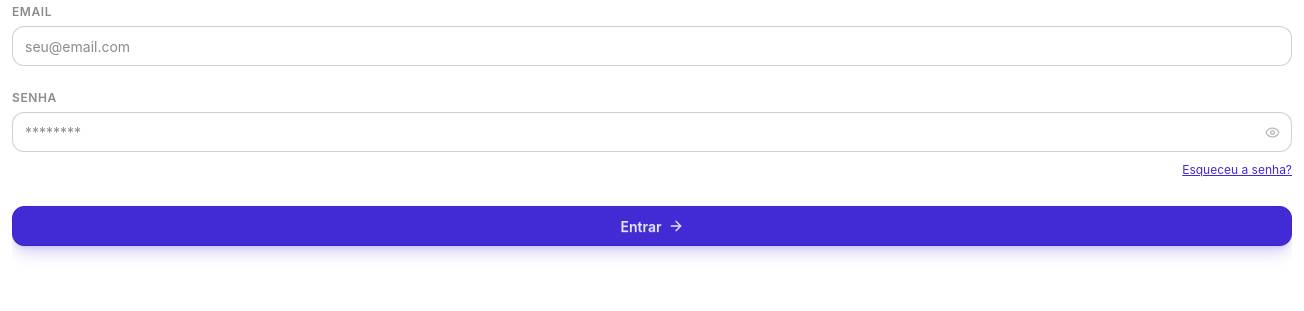
Test case: Login › Mock de login › deve mostrar erro quando login retorna falha
Type "erro@email.com" into the field with placeholder "seu@email.com" at x=652, y=46, box [12,26,1292,66]
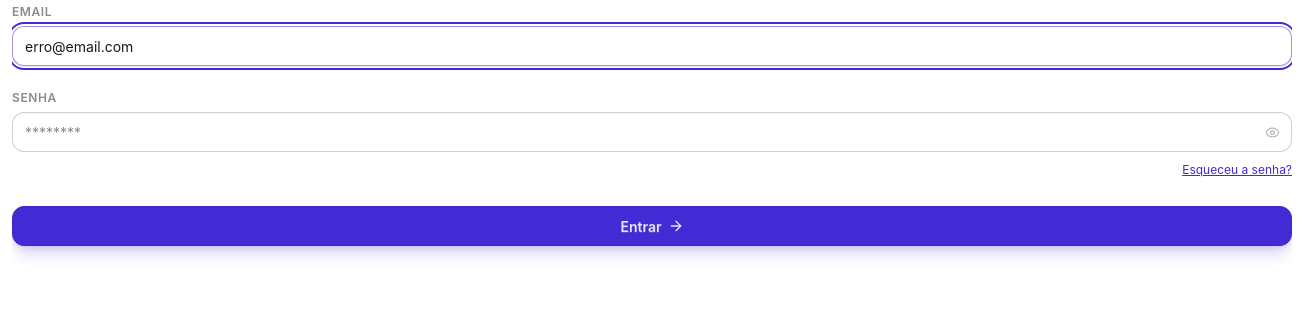
Type "senhaerrada" into the password field with placeholder "********" at x=652, y=132, box [12,112,1292,152]
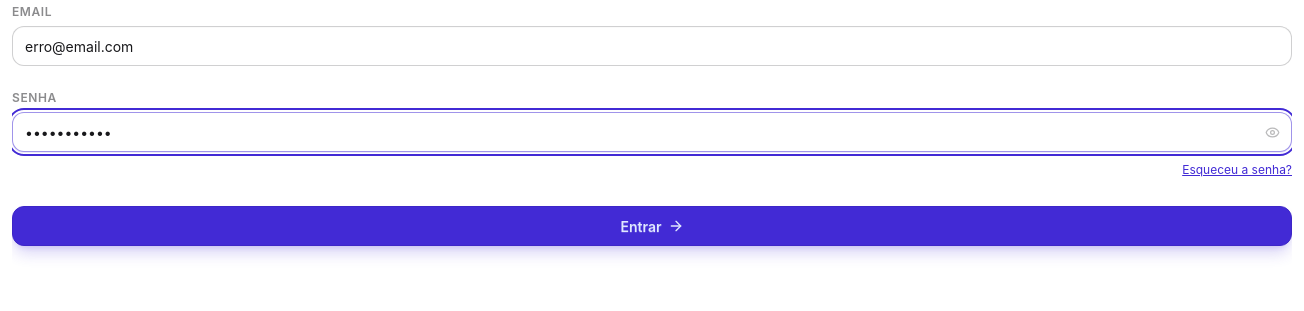
Click the button "Entrar" at x=652, y=226, box [12,206,1292,246]
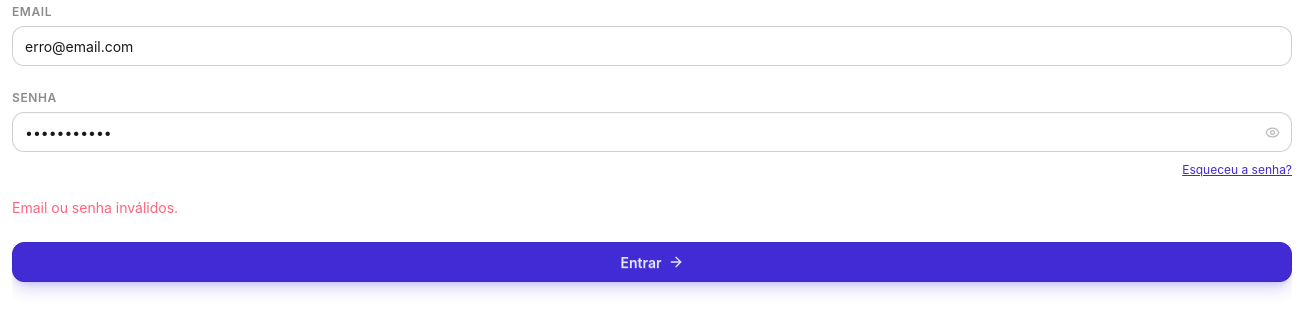
Check: the message reads "Email ou senha inválidos.", box [12,199,178,216]
